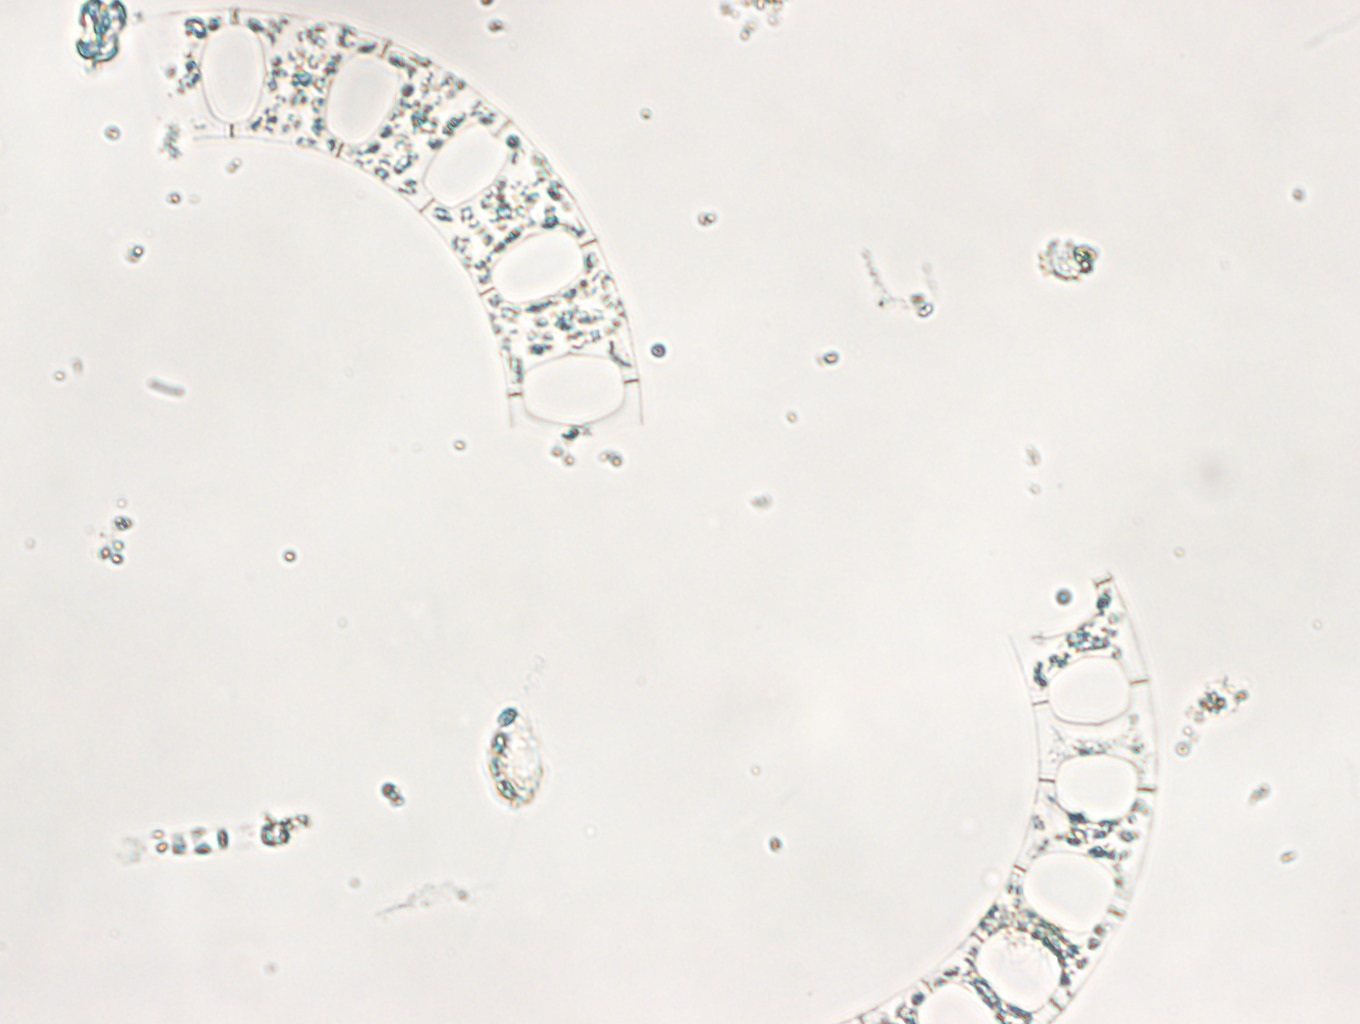eucampia: (160, 8, 644, 442), (847, 572, 1158, 1024)
